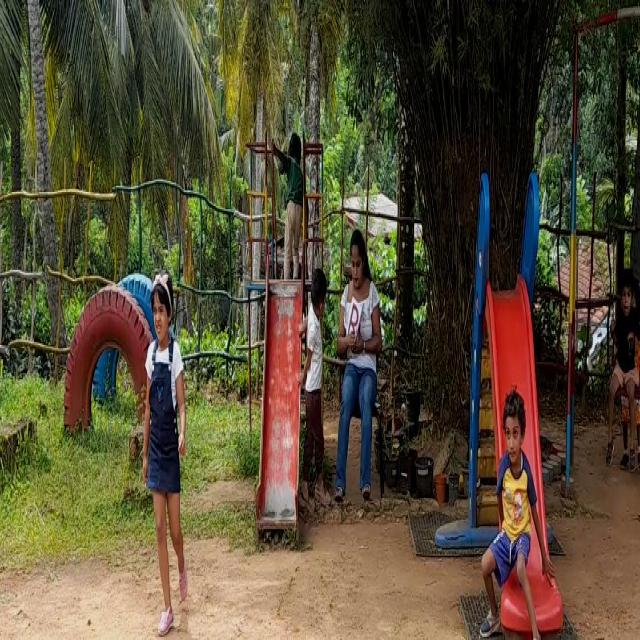adult: (334, 228, 384, 509)
child: (141, 268, 196, 640), (486, 390, 551, 640), (301, 264, 329, 521), (609, 262, 640, 460), (279, 127, 302, 284)
